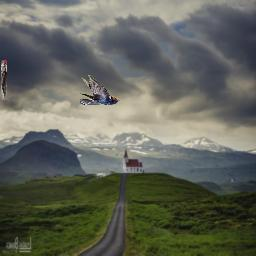Swallow: (80, 75, 120, 105)
Woodpecker: (1, 60, 7, 100)
